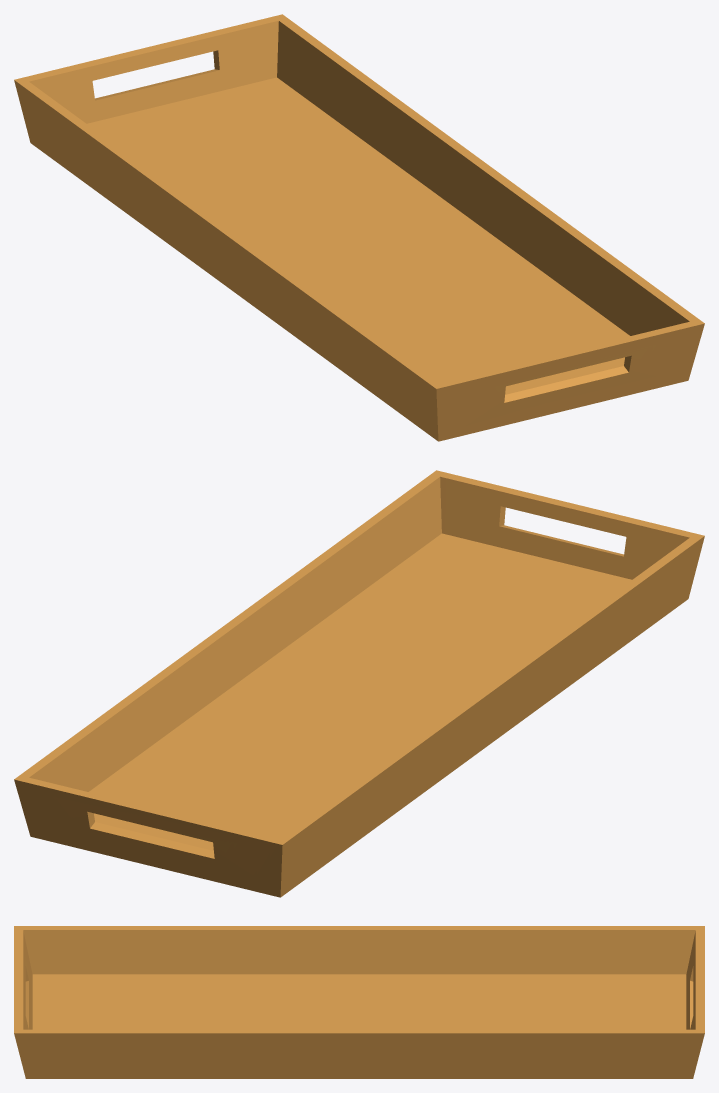
The model's file is FoodProp_4_2_A.glb.
3 views of the same model, one above another, from view 1: azimuth 30°, elevation 25°; view 2: azimuth 150°, elevation 25°; view 3: azimuth 270°, elevation 25° (orthographic). The views are drawn at different scales.
Visible parts, largest first — view 1: FoodProp_4_2_A; view 2: FoodProp_4_2_A; view 3: FoodProp_4_2_A.
Boxes of the visible parts, x1,y1,x2,y2 form: FoodProp_4_2_A: [14, 14, 704, 441]; FoodProp_4_2_A: [14, 470, 704, 897]; FoodProp_4_2_A: [14, 926, 704, 1078].
Size of the model in its own units: 0.2266 by 0.0486 by 0.6174.
Materials: 1 (1 with a texture image).
